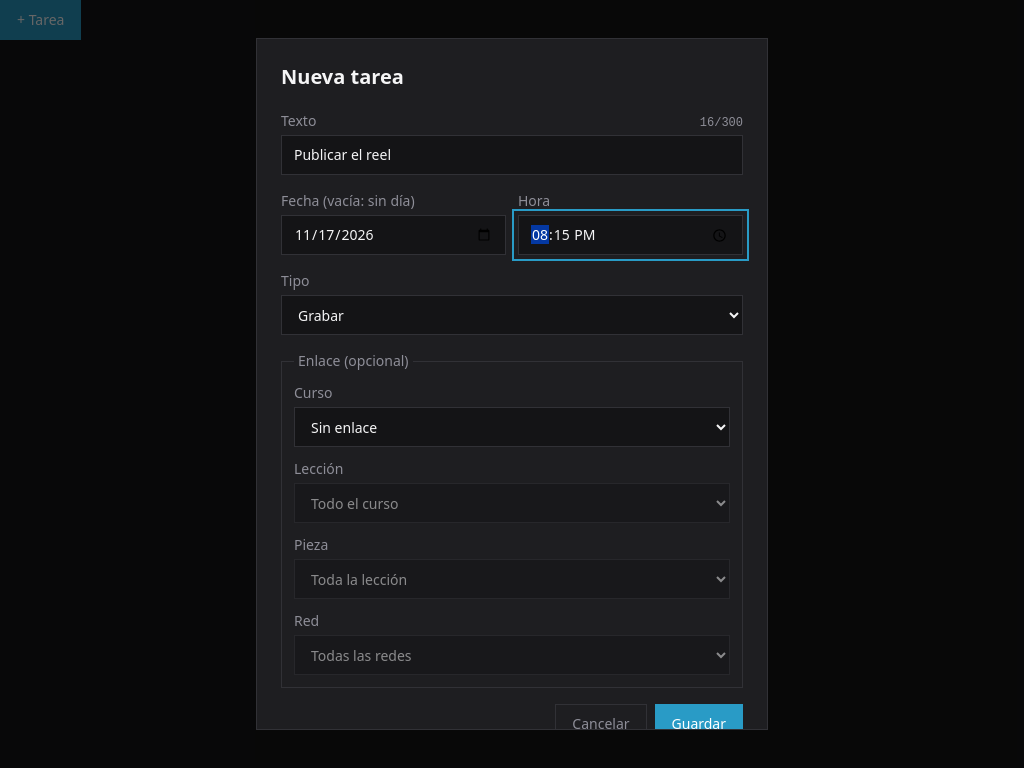
FormularioTarea › crea la tarea con la jerarquía completa del enlace
Earlier steps of the test are not shown.
Select "Publicar" in the dropdown labelled "Tipo": [512, 315] box [281, 295, 743, 335]
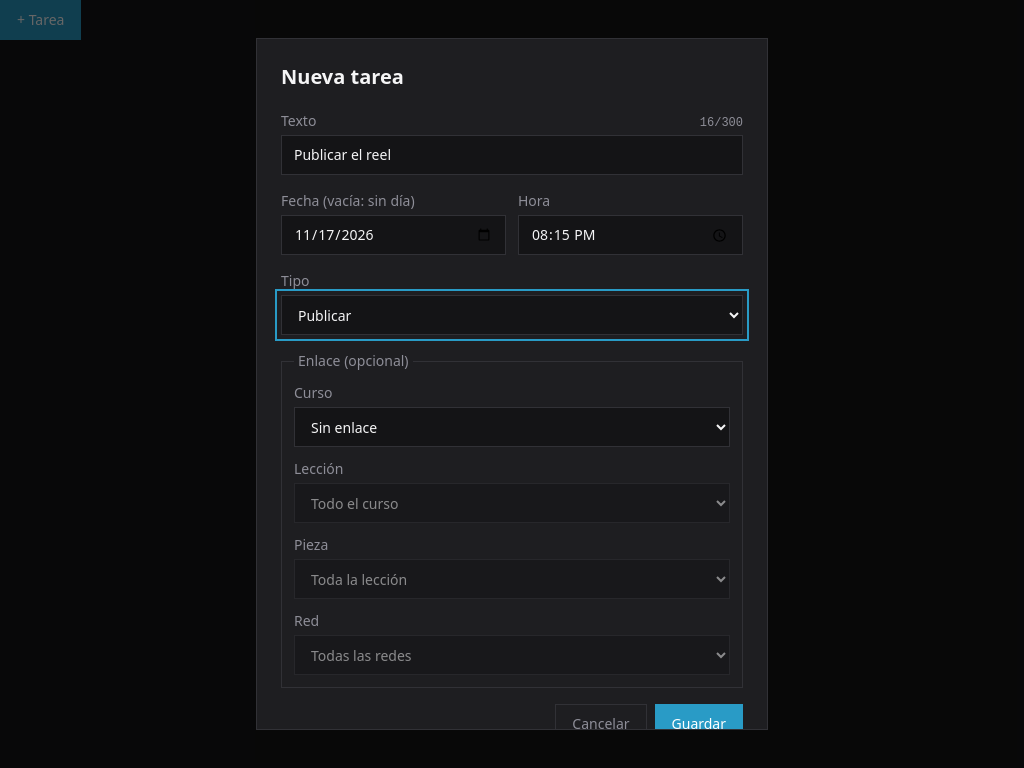
Select "React" in the dropdown labelled "Curso": [512, 427] box [294, 407, 730, 447]
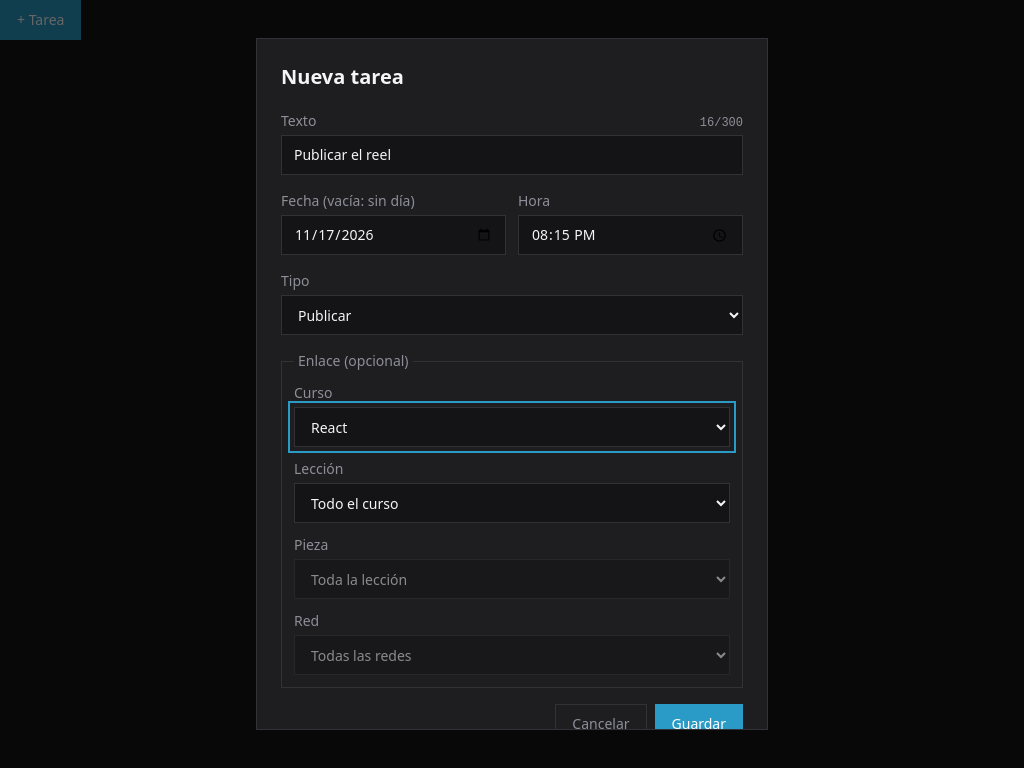
Expected: the dropdown labelled "Lección" is enabled
Select "4 · Importar y exportar" in the dropdown labelled "Lección": [512, 503] box [294, 483, 730, 523]
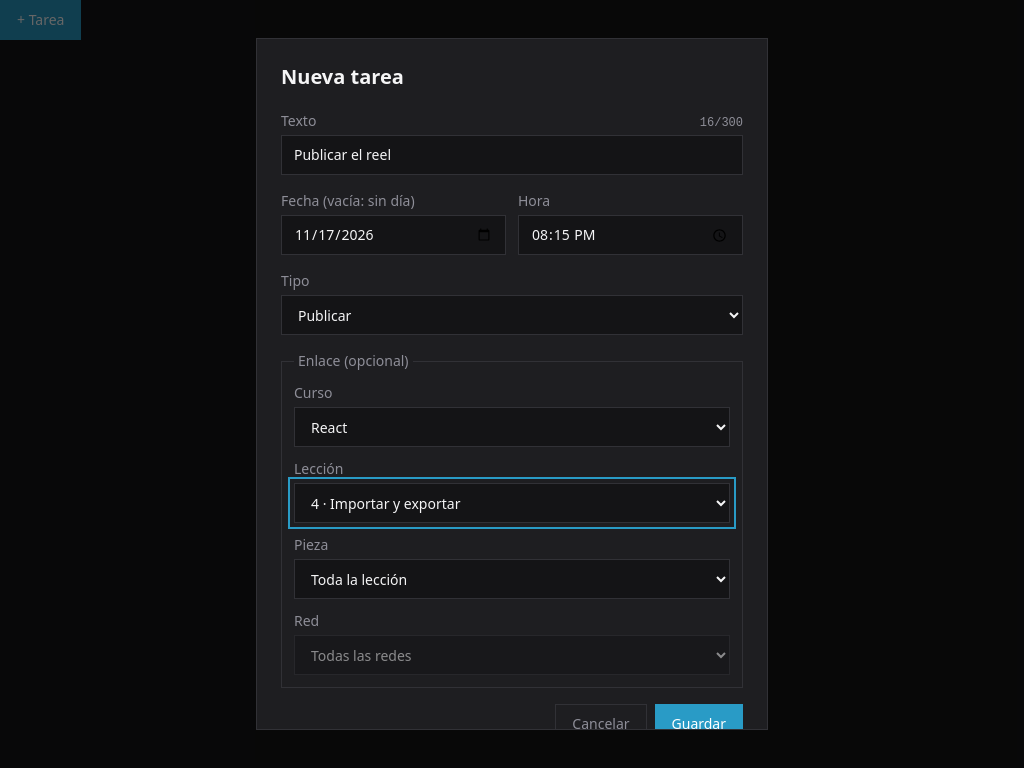
Expected: the dropdown labelled "Pieza" is enabled
Select "Reel de salida" in the dropdown labelled "Pieza": [512, 579] box [294, 559, 730, 599]
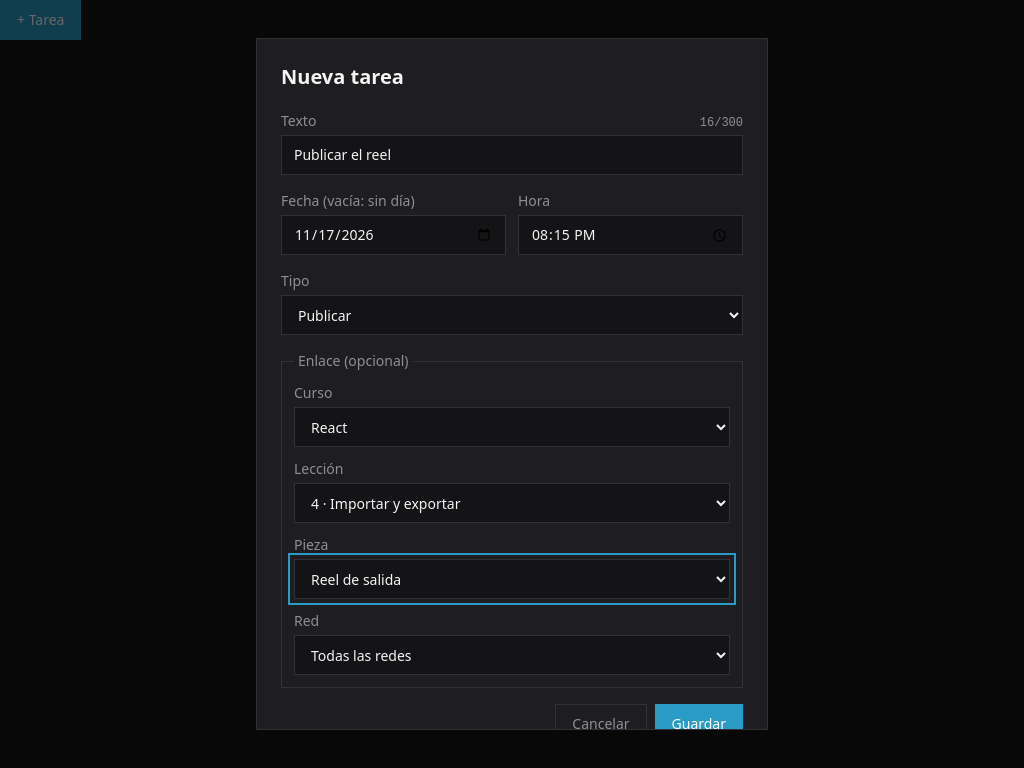
Select "Instagram" in the dropdown labelled "Red": [512, 655] box [294, 635, 730, 675]
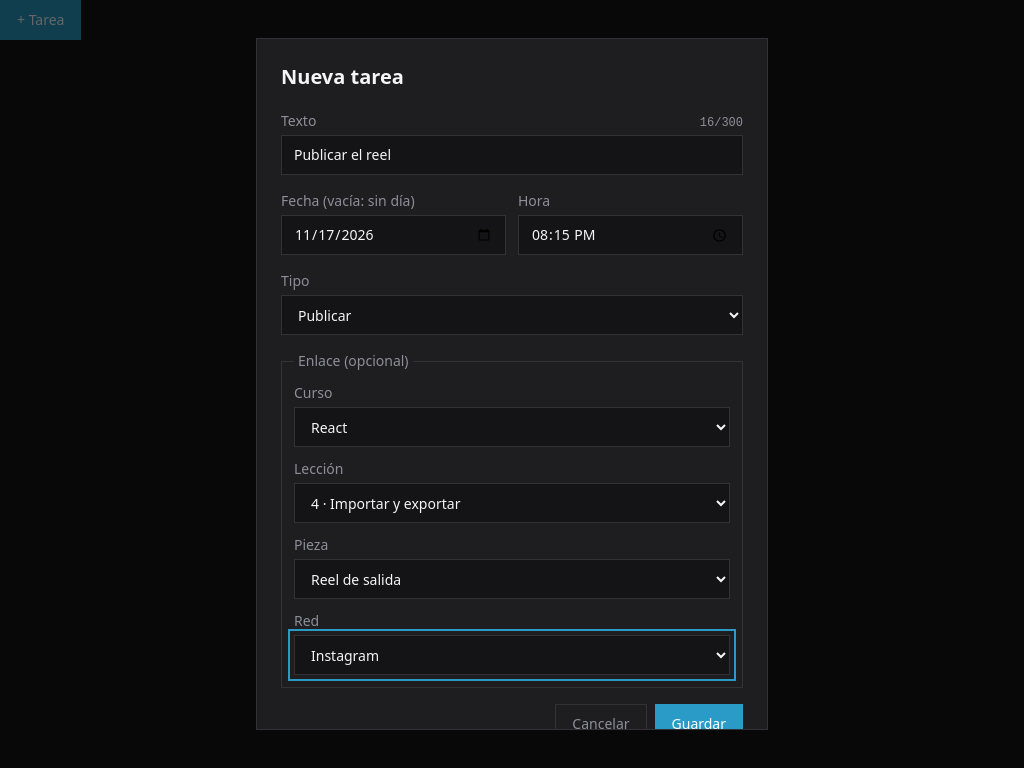
Click the button "Guardar": [699, 724] box [654, 704, 743, 744]
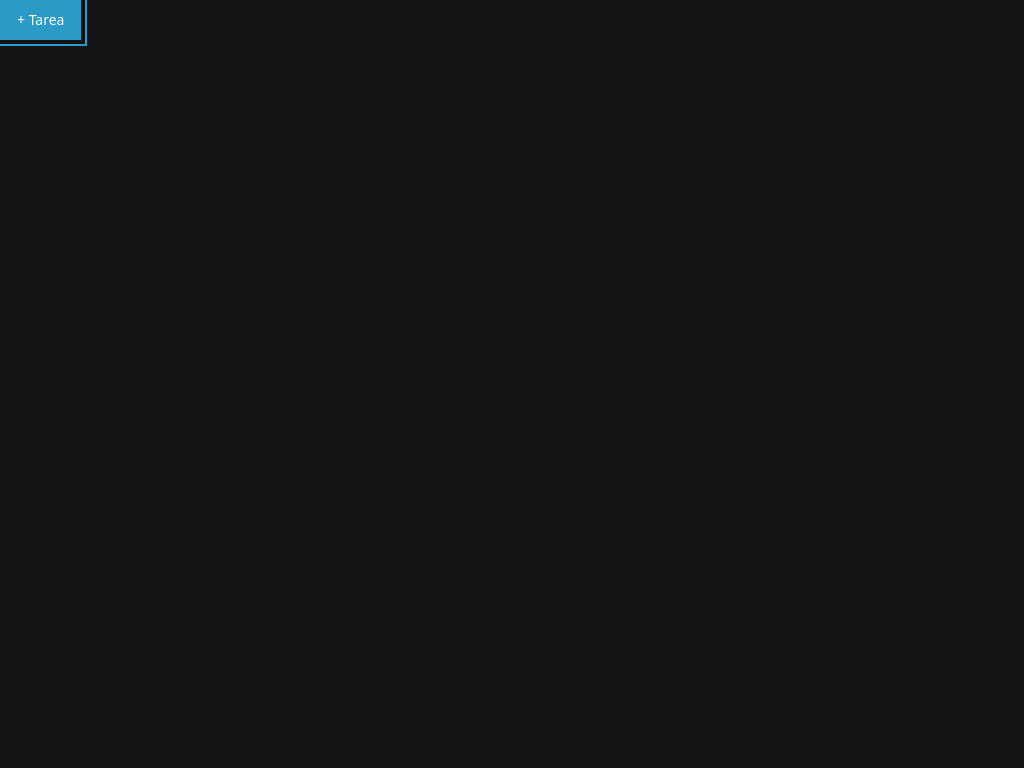
Expected: the dialog is gone
